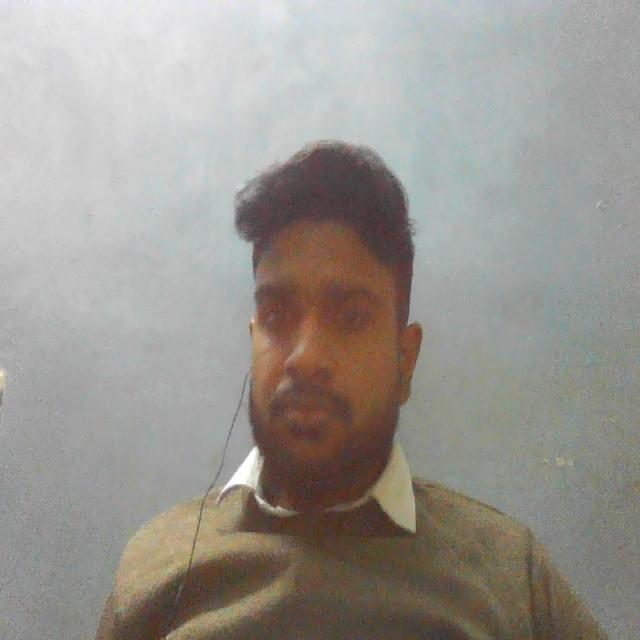real: (236, 132, 425, 489)
